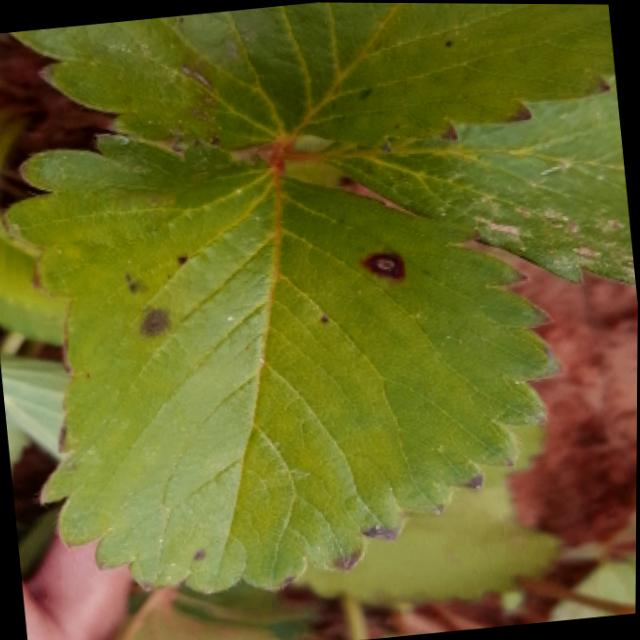Leaf Spot: (1, 129, 565, 596), (8, 2, 615, 156)
